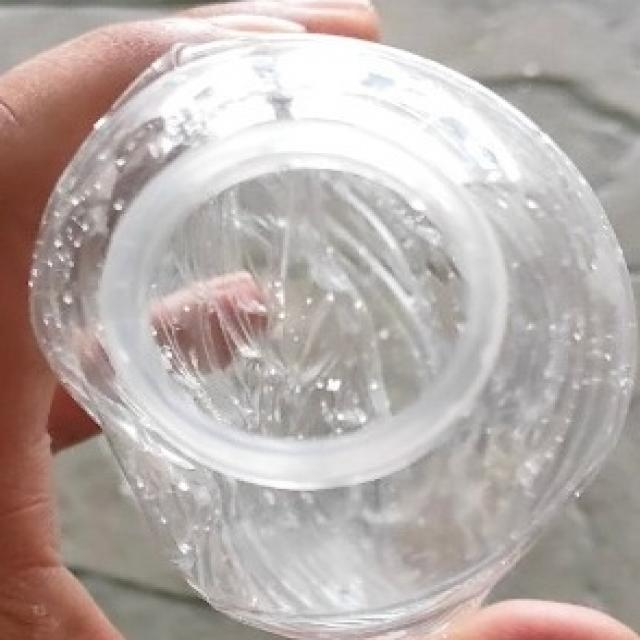plastic_bottle: (30, 29, 638, 640)
